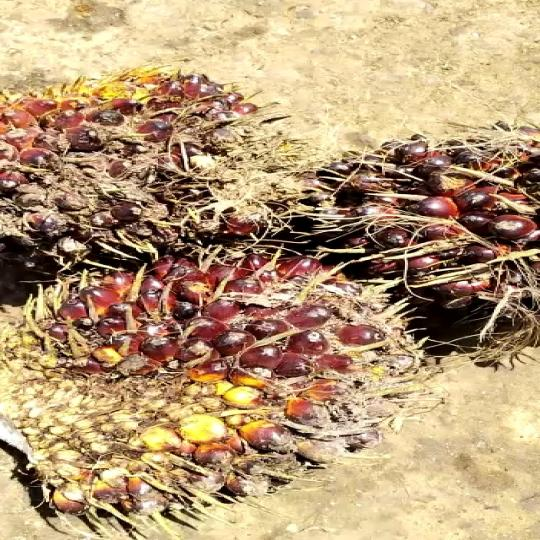kurang masak: (0, 245, 419, 525), (297, 119, 540, 363), (0, 76, 301, 256)
